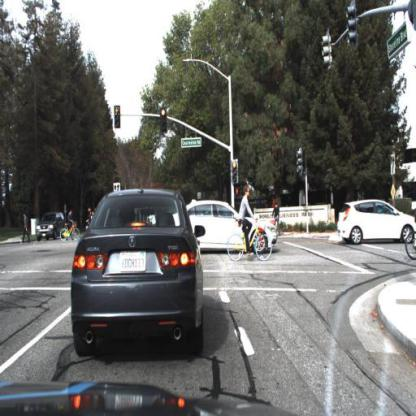biker: (226, 185, 277, 264), (60, 206, 79, 244), (273, 203, 281, 239)
car: (70, 186, 208, 360), (191, 199, 279, 256), (37, 209, 68, 241)
pedestrian: (22, 209, 34, 248), (21, 214, 31, 245), (68, 208, 77, 242), (262, 196, 272, 225)
trafficLight-Red: (231, 158, 240, 185), (159, 105, 167, 135)
trafficLight-RedLeft: (114, 103, 122, 130)
